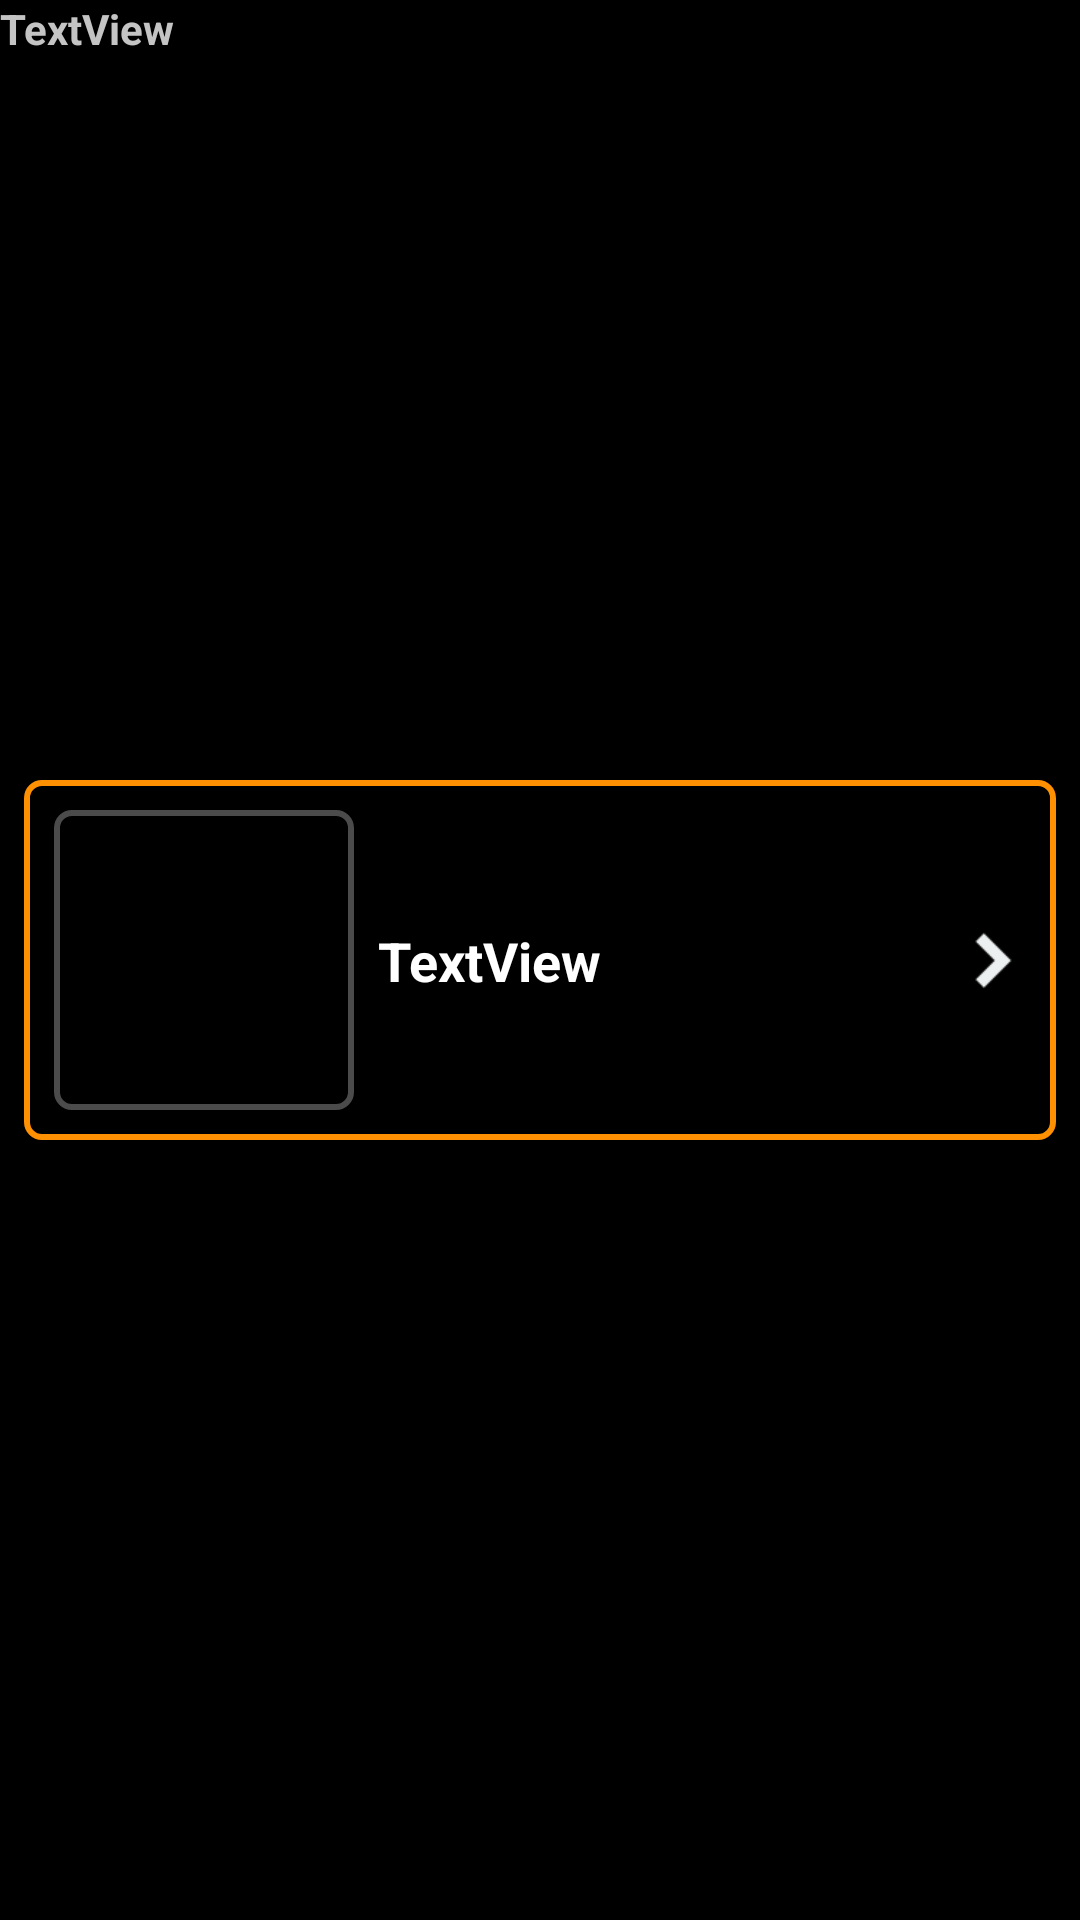

Icon click points for this 1080x1920 phone screenshot, format point (x, y):
arrow right: point (993, 960)
